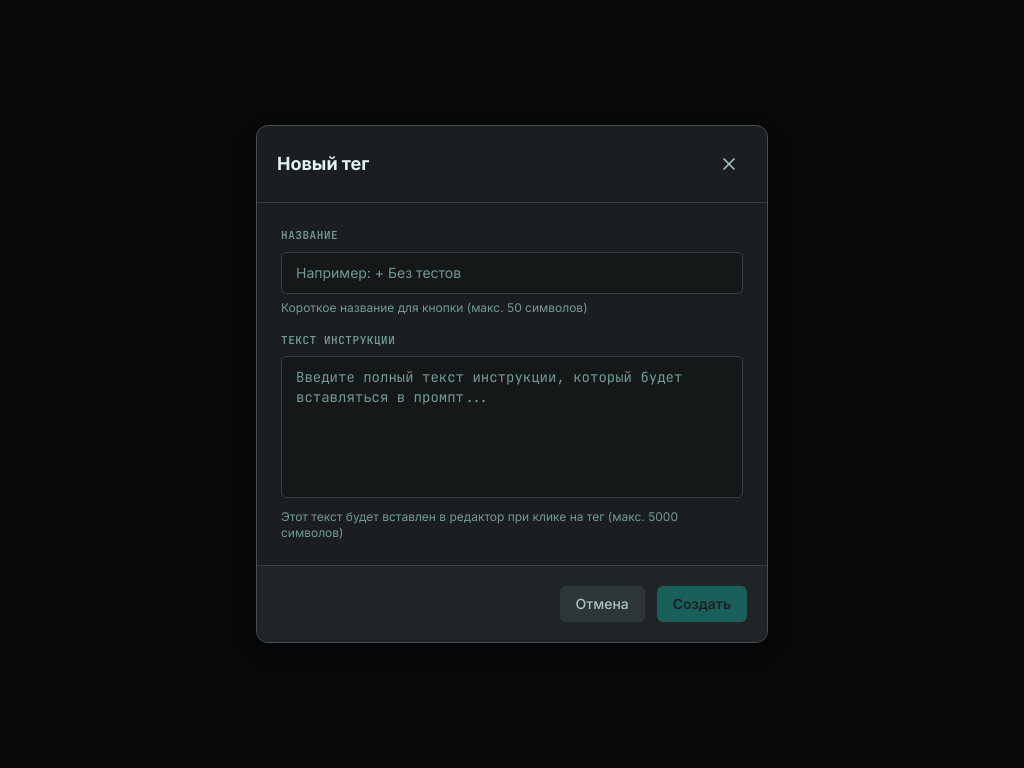
TagCreateModal › Кнопка отправки › активна, когда оба поля заполнены
Type "Name" into the field labelled "Название" at x=512, y=272, box [281, 252, 743, 294]
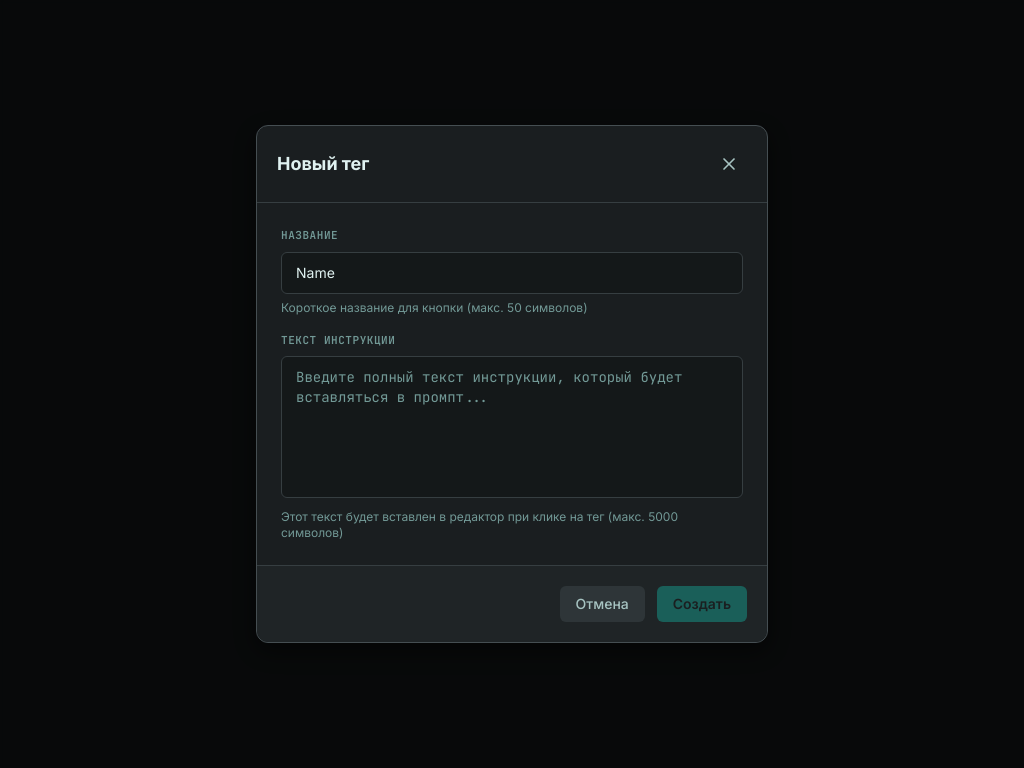
Replace the text in the text box labelled "Текст инструкции" with "Value" at x=512, y=427, box [281, 356, 743, 498]
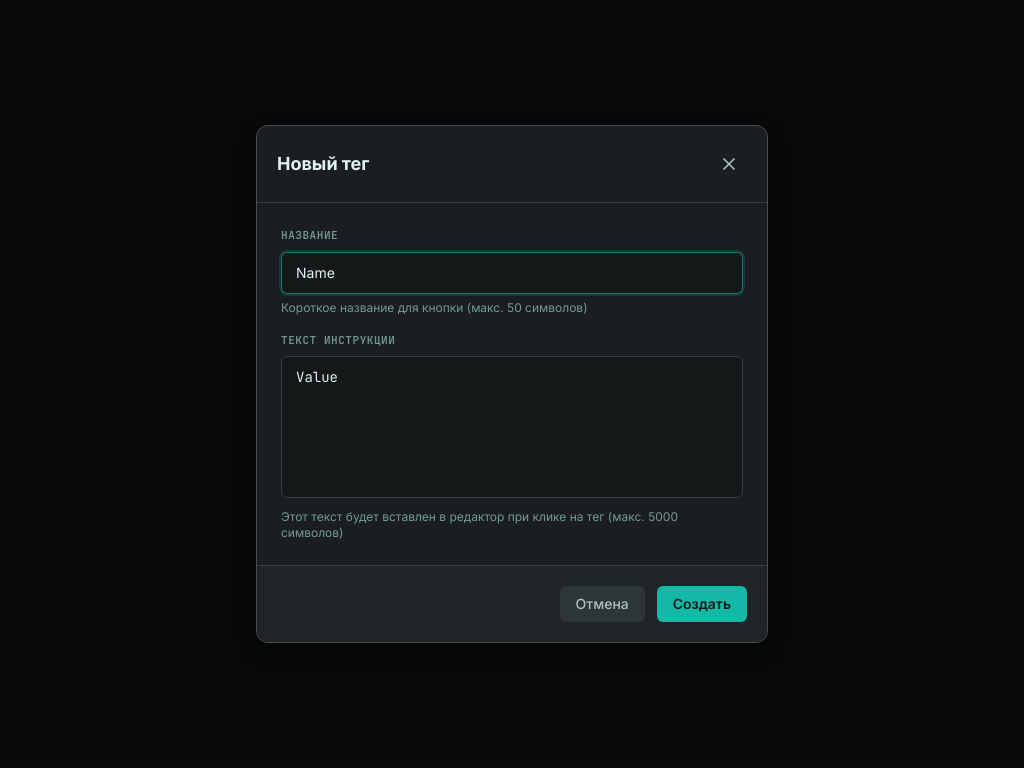
Expected: the button "Создать" is enabled, [657, 586, 747, 622]
